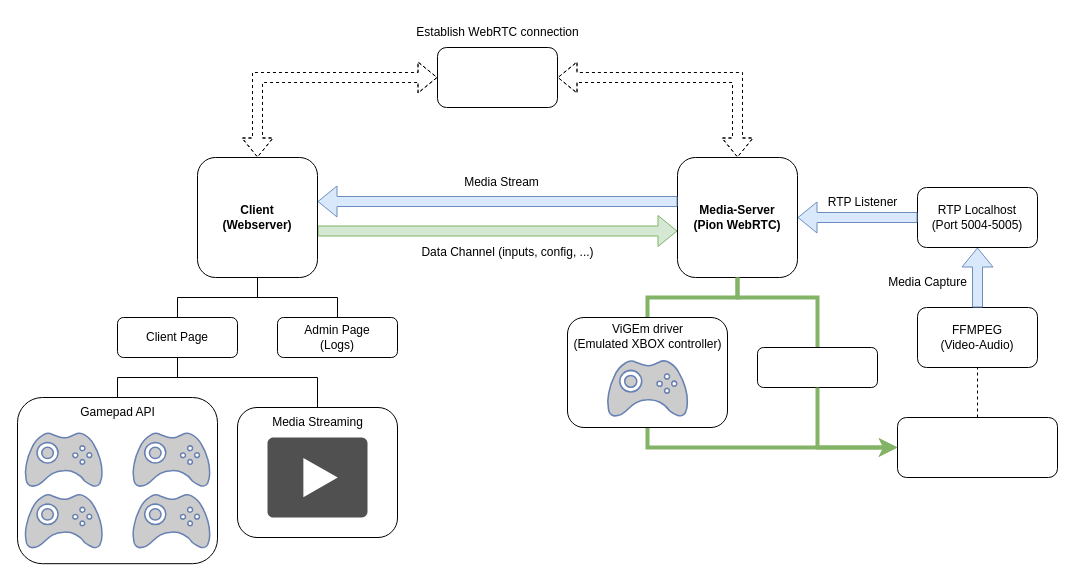
The diagram is 1075 pixels wide and 581 high, and some of its shapes have lost their labels. Each missing label, with the centre of its shape:
"Signaling Server" goes at (497,77).
"Windows API" goes at (817,367).
"Windows Application" goes at (977,447).
